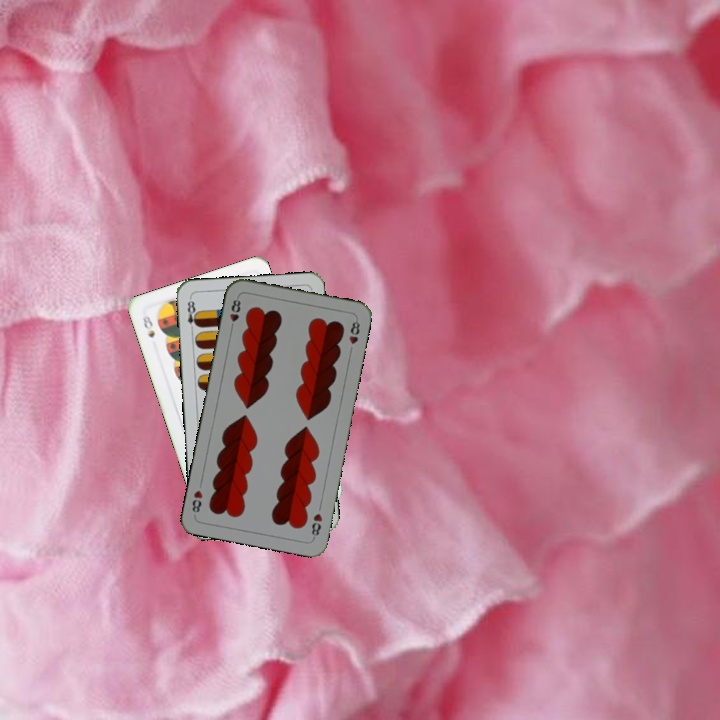E8: (183, 294, 201, 335)
H8: (226, 293, 243, 333), (307, 509, 325, 541)
S8: (139, 310, 157, 341)
